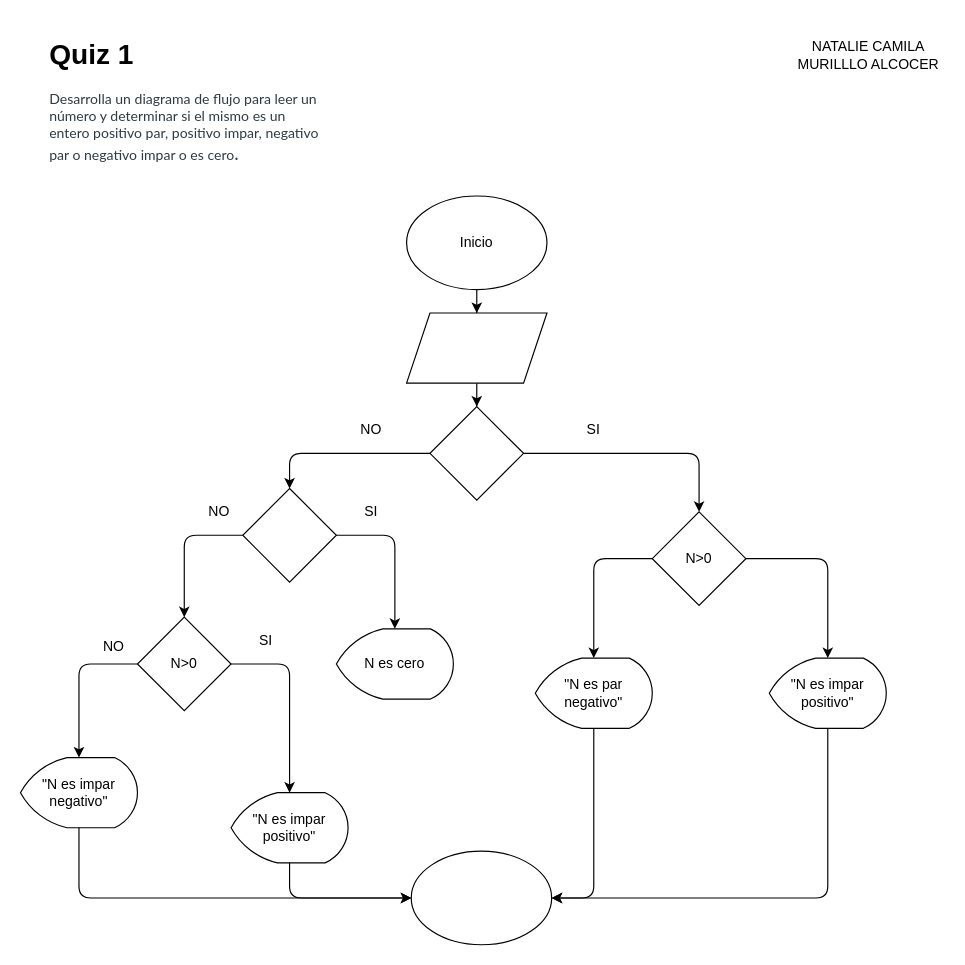
The diagram is 965 pixels wide and 965 high, and some of its shapes have lost their labels. The box of each missing label's shape, as (x1, y1, x2, y2) in pixels:
FIN: (410, 850, 552, 945)
Leer N: (405, 312, 547, 383)
N MOD 2=0: (429, 405, 524, 500)
N=0: (242, 487, 336, 582)
